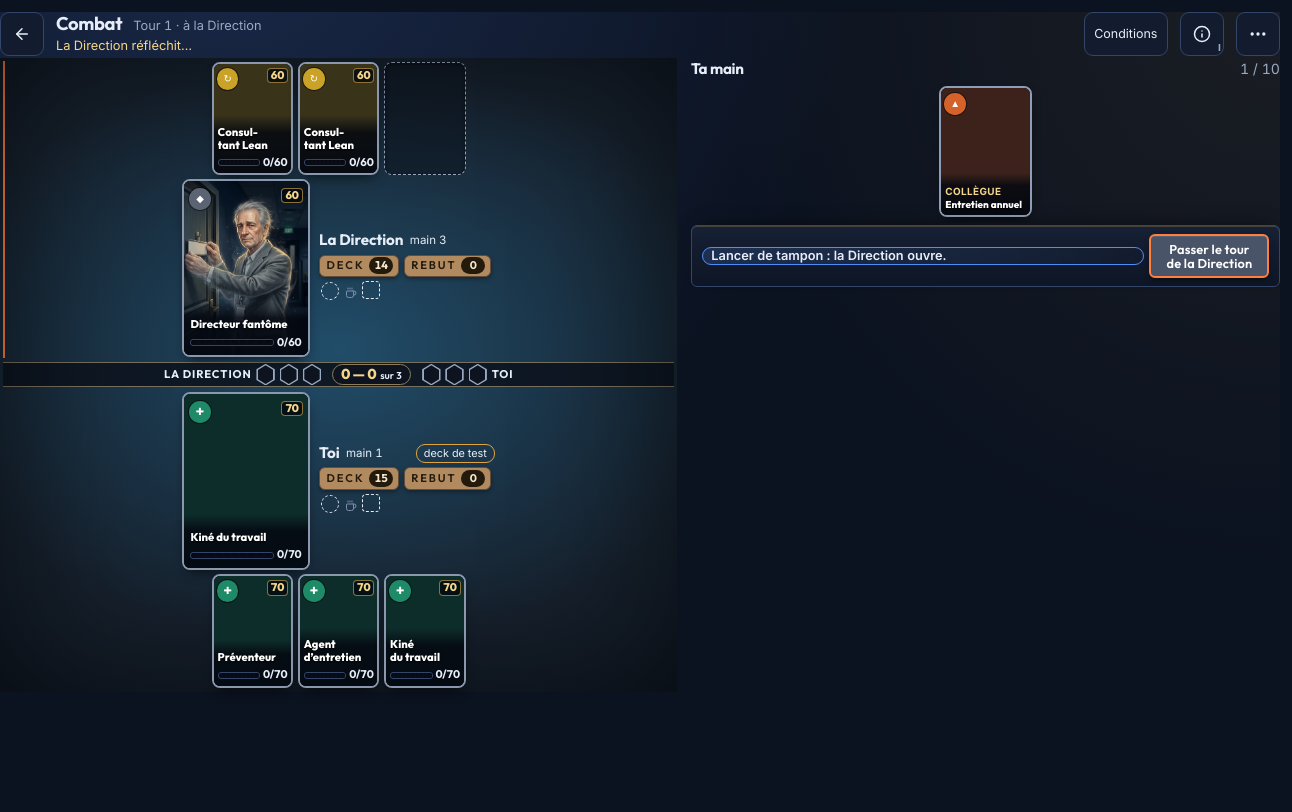
Scenario: Battle — écran de combat › le menu est une seule surface : la liste, ou le Journal, ou la Partie à deux
The width and height of the screenshot is (1292, 812).
Click the button named "Menu du combat": (1258, 34) x1=1236 y1=12 x2=1280 y2=56
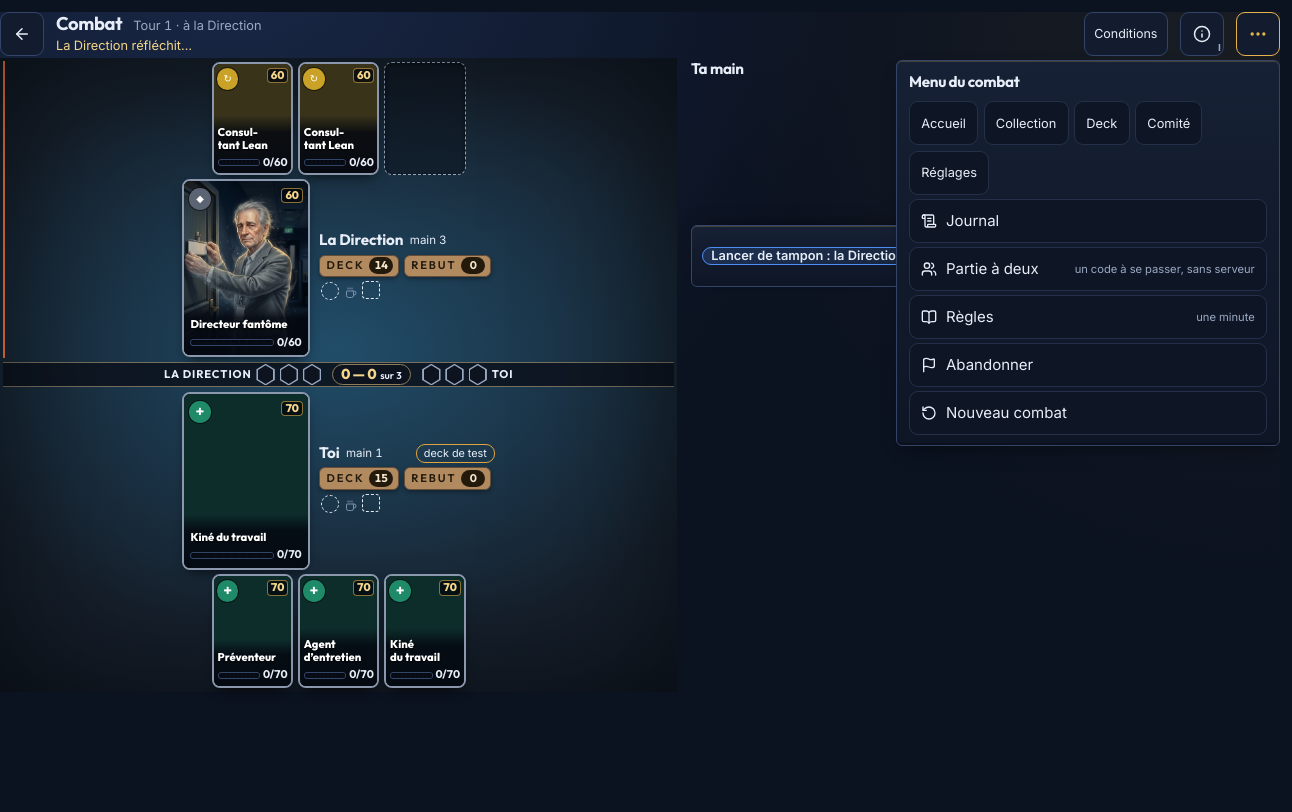
Click the button "Journal": (973, 220) x1=909 y1=199 x2=1267 y2=243
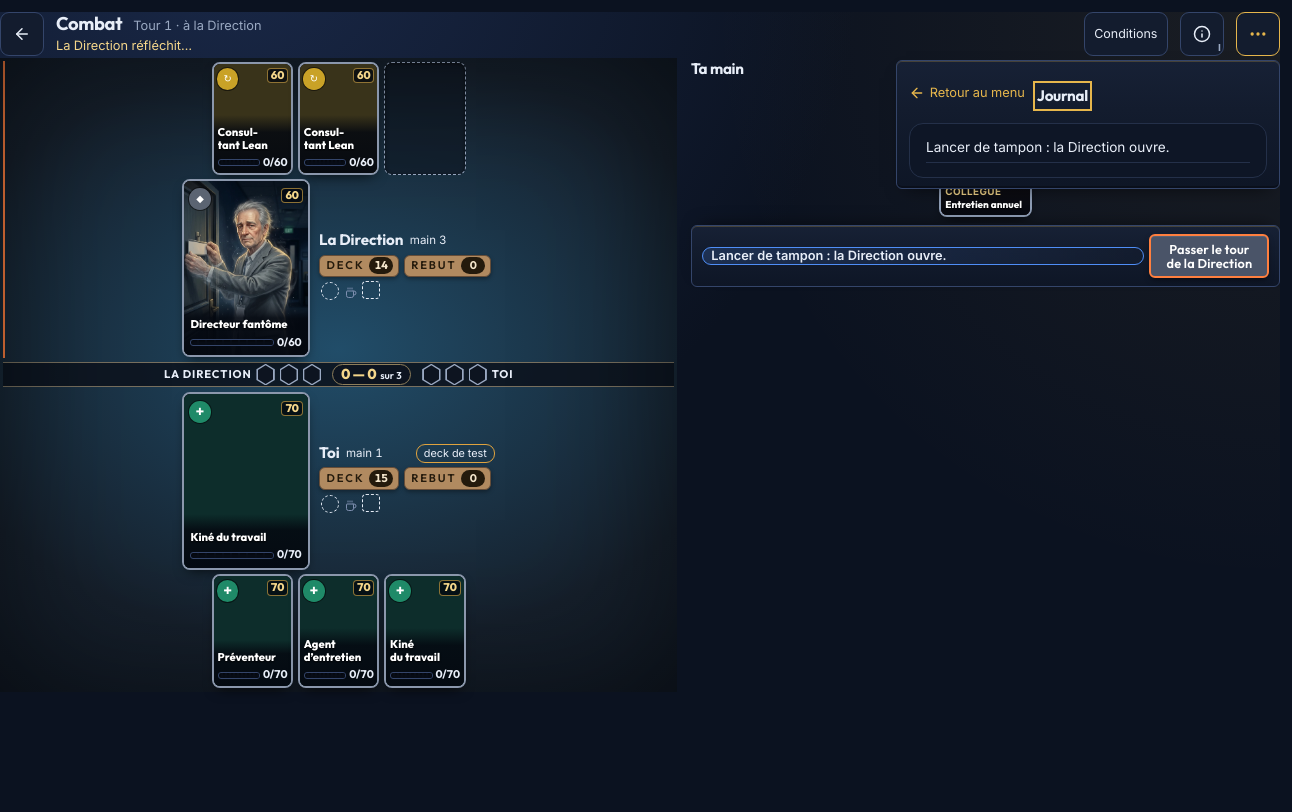
Expected: the field labelled "Code reçu" is not shown
Now the heading "Journal" is shown, box x1=1037 y1=85 x2=1088 y2=107
Now the button "Nouveau combat" is gone
Click the button "Retour au menu": (967, 93) x1=909 y1=71 x2=1025 y2=115
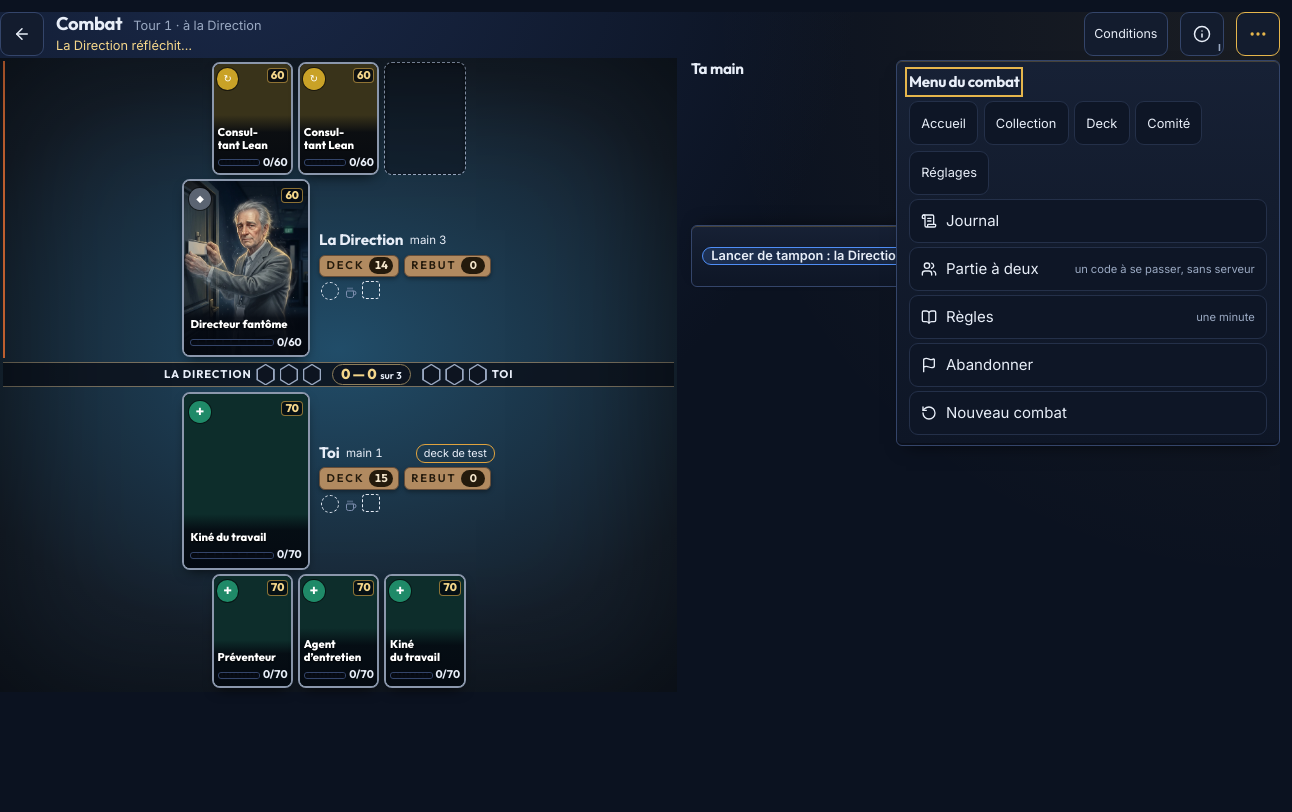
Click the button "Partie à deux un code à se passer, sans serveur": (1088, 269) x1=909 y1=247 x2=1267 y2=291
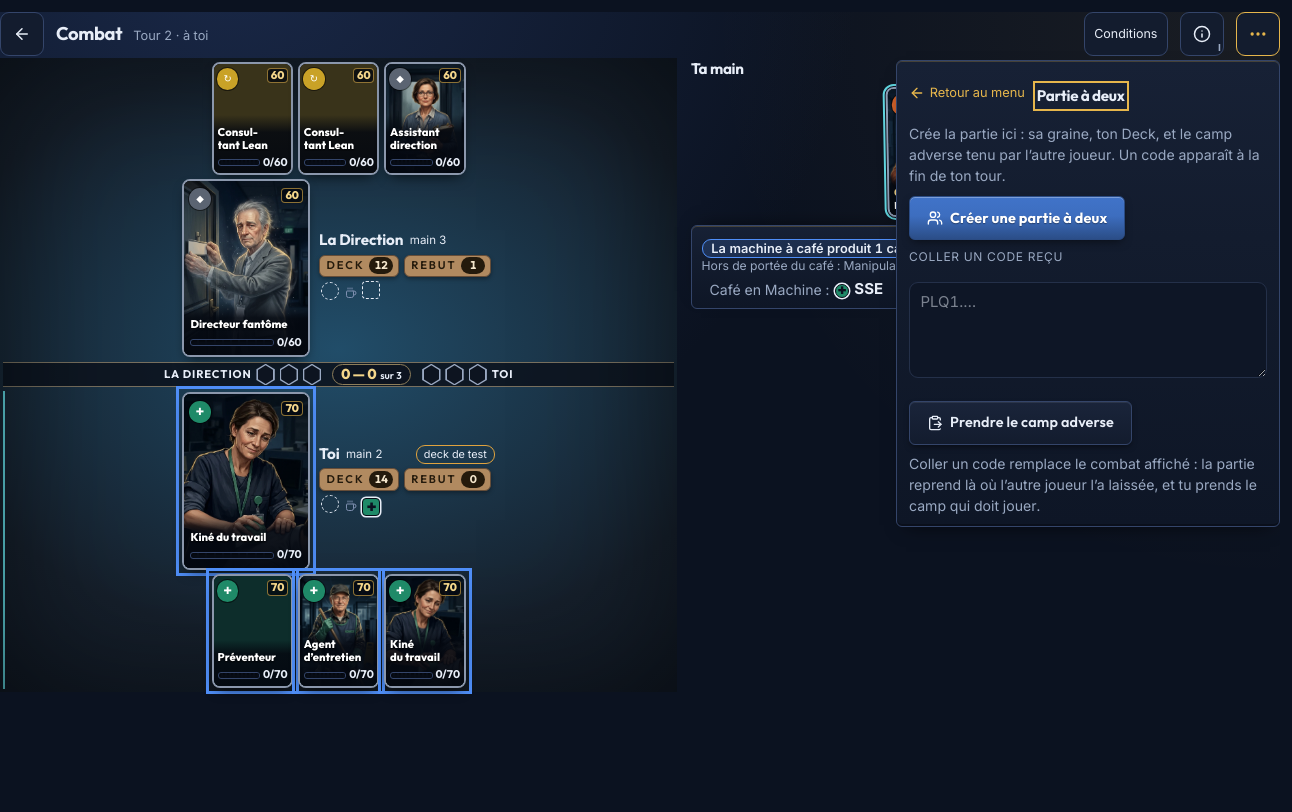
Now the number of elements named "Menu du combat" is 1, box x1=896 y1=60 x2=1280 y2=527
Now the button "Journal" is gone
Now the button "Créer une partie à deux" is shown, box x1=909 y1=196 x2=1125 y2=240
